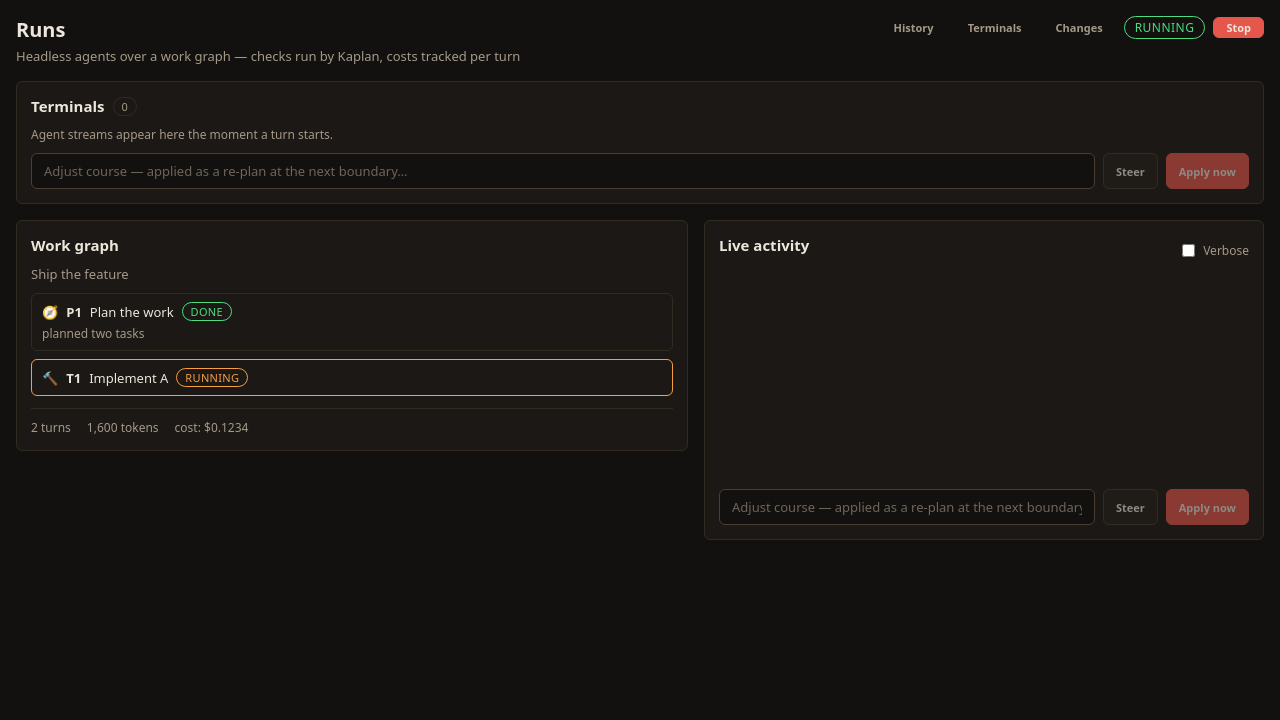
Test case: RunView › loads and lists run history on toggle
Click the button with test id "run-toggle-history" at (914, 28), box x1=880 y1=17 x2=947 y2=38
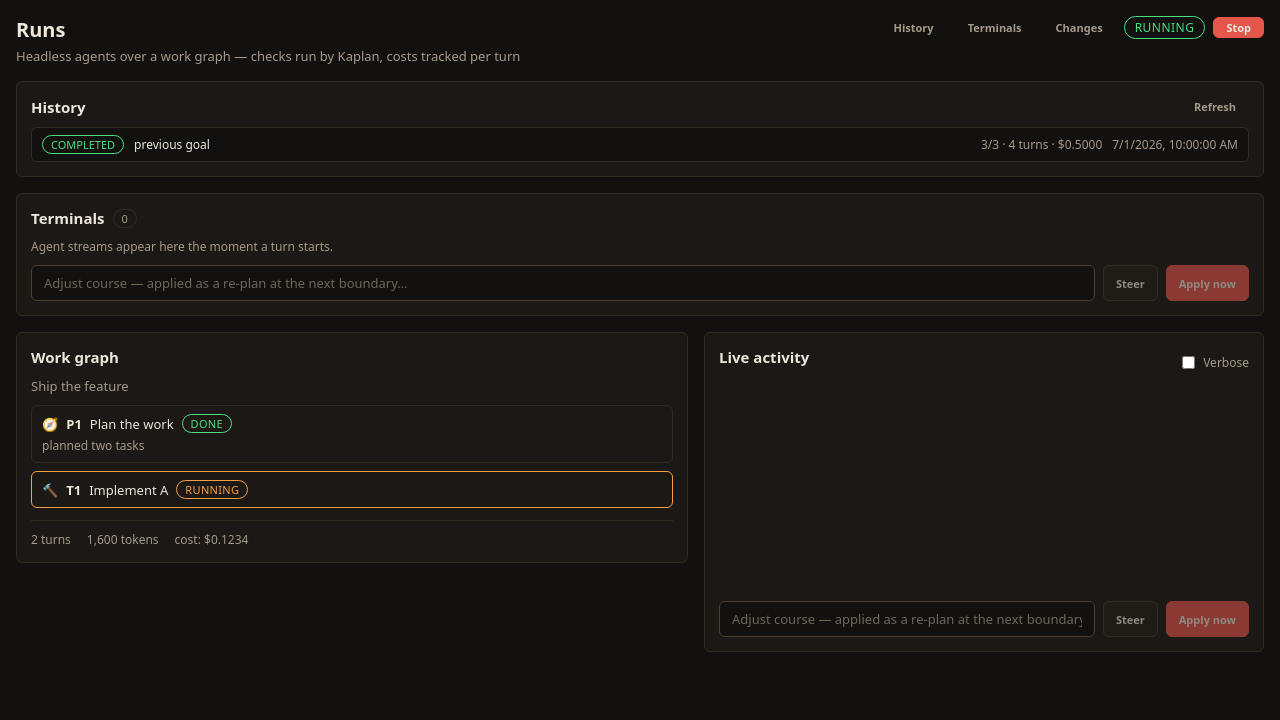
expect the element with test id "run-history" is shown: met, box x1=16 y1=81 x2=1264 y2=177
expect the element with test id "run-history" shows "previous goal": met, box x1=31 y1=127 x2=1249 y2=162
